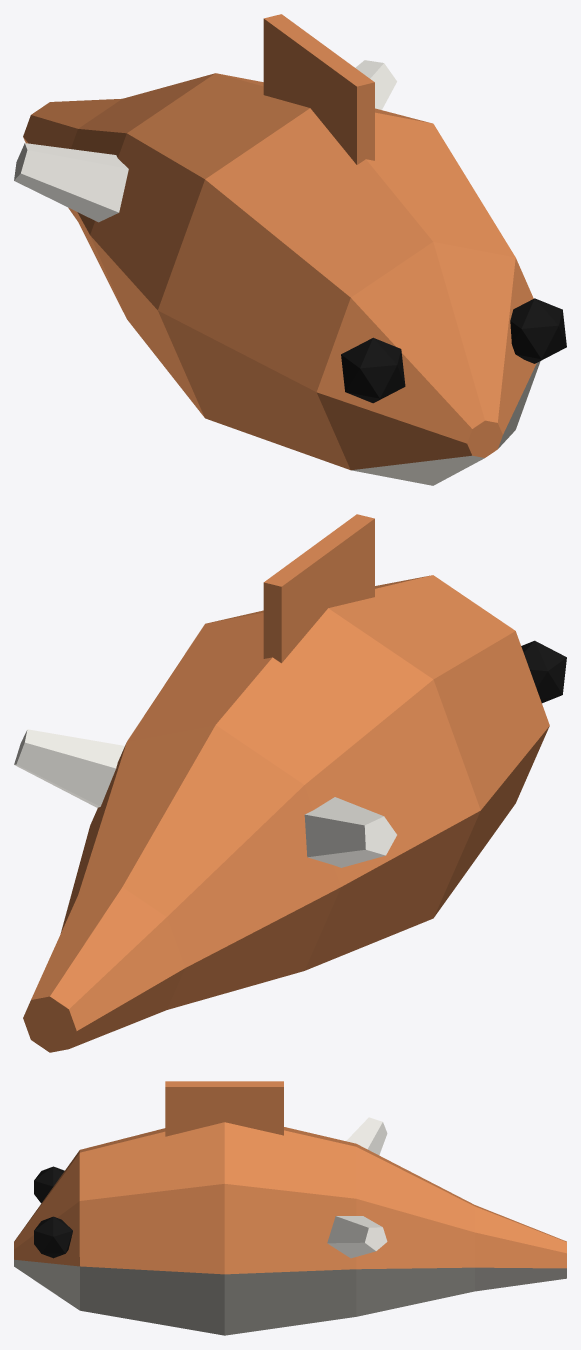
File: ANI_Fish.fbx
The picture shows the model from 3 angles, top to bottom: view 1: azimuth 30°, elevation 25°; view 2: azimuth 150°, elevation 25°; view 3: azimuth 270°, elevation 25°; orthographic projection. The views are drawn at different scales.
Parts seen in each view (by area): view 1: ANI_Fish__BODY; view 2: ANI_Fish__BODY; view 3: ANI_Fish__BODY.
Boxes of the visible parts, <box> form: ANI_Fish__BODY: <box>14,14,566,485</box>; ANI_Fish__BODY: <box>14,514,566,1052</box>; ANI_Fish__BODY: <box>14,1081,566,1335</box>.
Bounding box in the file's own units: 0.4196 × 0.415 × 0.84.
